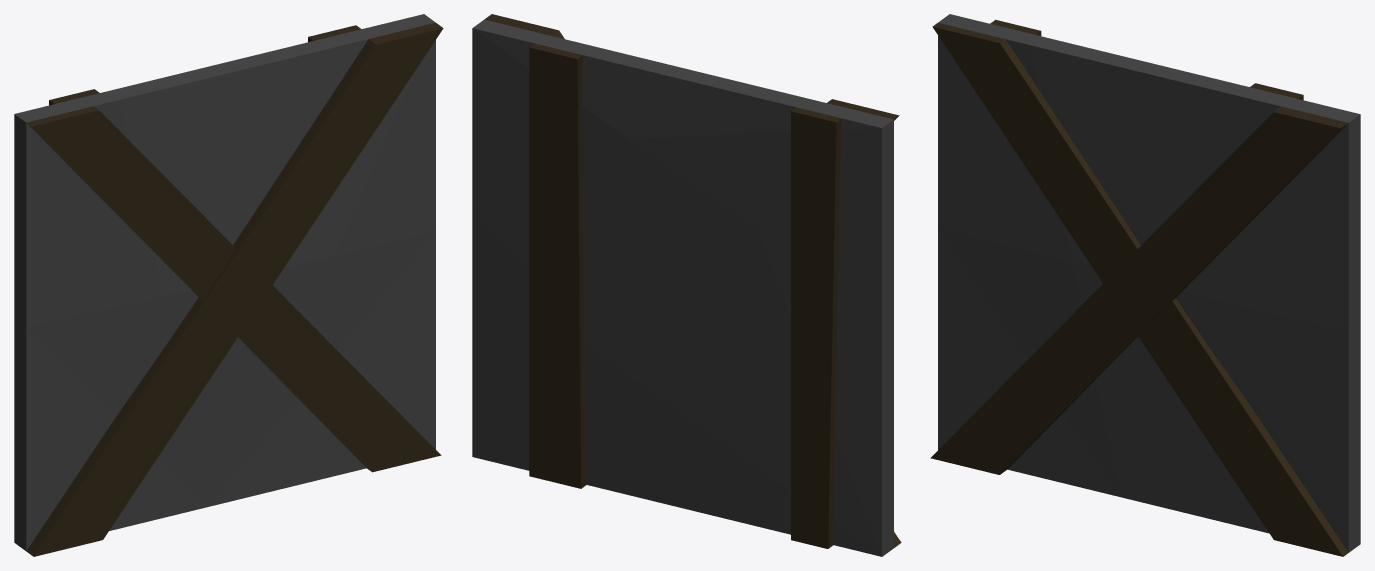
3 views of the same model, side by side, from view 1: azimuth 30°, elevation 25°; view 2: azimuth 150°, elevation 25°; view 3: azimuth 330°, elevation 25° (orthographic).
Visible parts, largest first — view 1: Plane104; view 2: Plane104; view 3: Plane104.
Boxes of the visible parts, x1,y1,x2,y2 form: Plane104: (14,14,443,556); Plane104: (472,14,901,556); Plane104: (930,14,1360,556).
Bounding box in the file's own units: 2 × 2 × 0.211.
